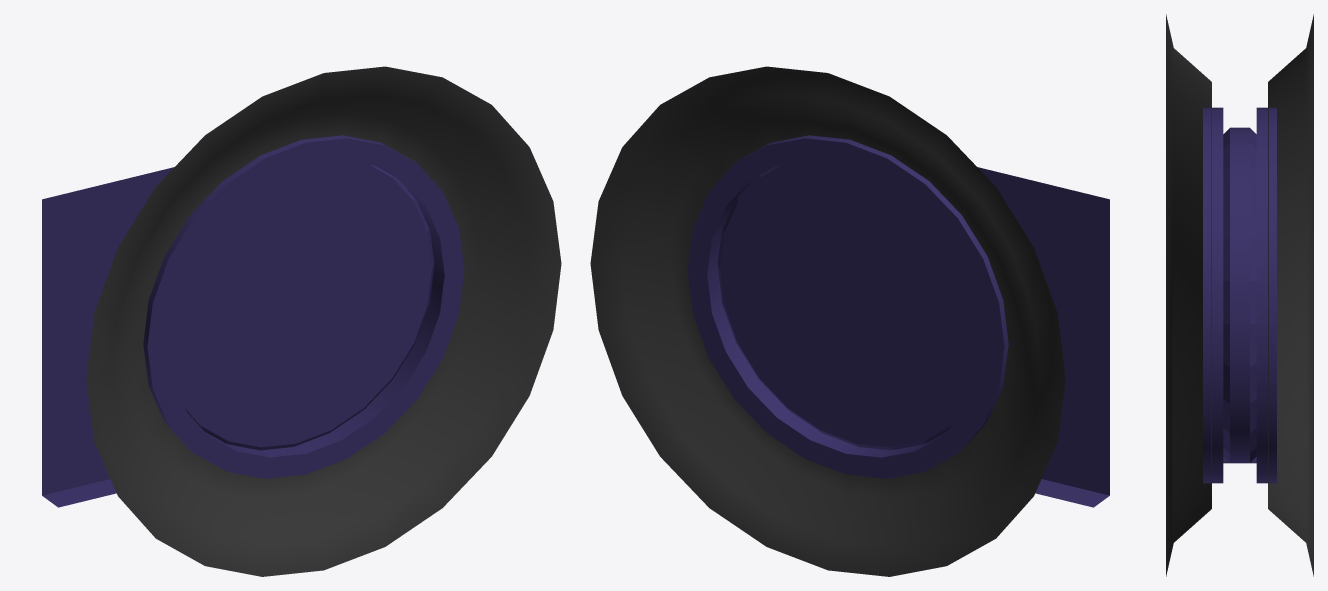
The model's file is HubDoor.FBX.
3 renders of one model, left to right at view 1: azimuth 30°, elevation 25°; view 2: azimuth 150°, elevation 25°; view 3: azimuth 270°, elevation 25°, orthographic. The views are drawn at different scales.
Parts seen in each view (by area): view 1: HubDoor_Cliff, HubDoor_Door, HubDoor; view 2: HubDoor_Cliff, HubDoor_Door, HubDoor; view 3: HubDoor_Cliff, HubDoor, HubDoor_Door.
Boxes of the visible parts, x1,y1,x2,y2 form: HubDoor_Cliff: [86, 66, 561, 576]; HubDoor_Door: [167, 159, 434, 450]; HubDoor: [42, 135, 464, 507]; HubDoor_Cliff: [590, 66, 1065, 576]; HubDoor_Door: [717, 159, 984, 450]; HubDoor: [687, 135, 1109, 507]; HubDoor_Cliff: [1166, 14, 1313, 576]; HubDoor: [1203, 107, 1276, 483]; HubDoor_Door: [1223, 127, 1256, 463].
Size of the model in its own units: 8.4 by 8.39 by 2.19.
